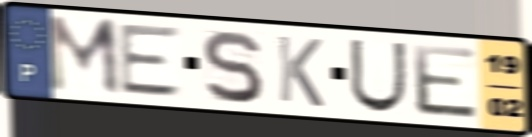E: (409, 41, 482, 122), (116, 23, 186, 100)
K: (274, 32, 327, 111)
M: (44, 14, 124, 100)
S: (198, 27, 266, 105)
U: (347, 36, 409, 115)
